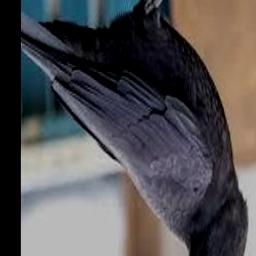Crow: (21, 0, 249, 256)
